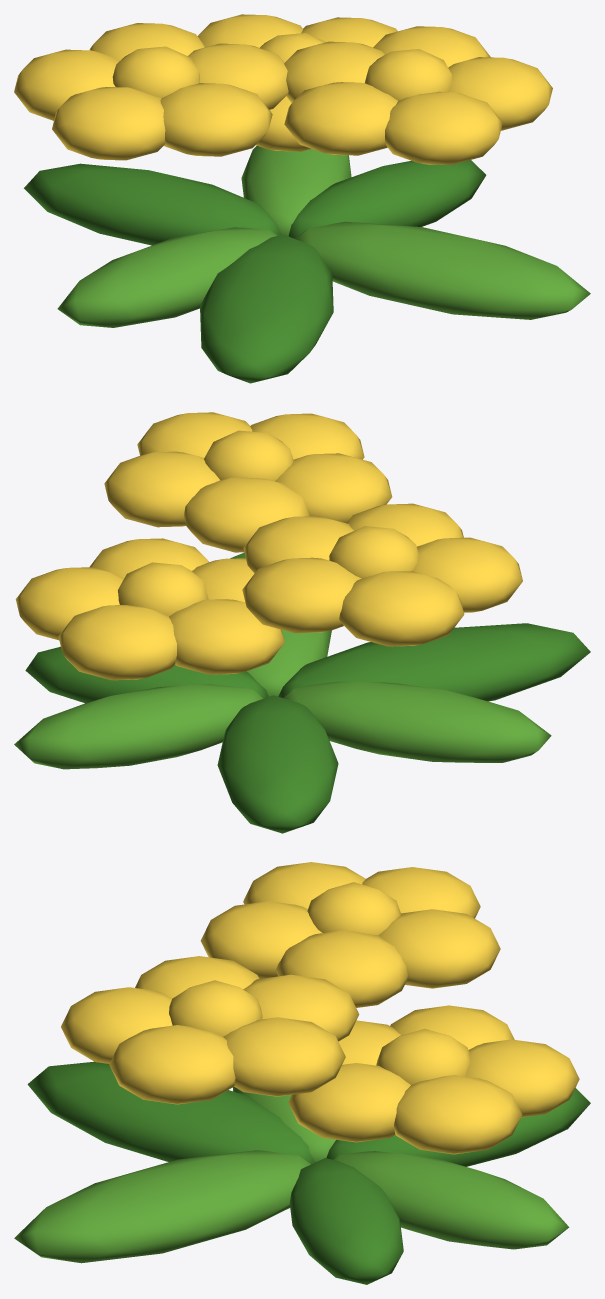
File: FlowersYellow.fbx
3 renders of one model, top to bottom at view 1: azimuth 30°, elevation 25°; view 2: azimuth 150°, elevation 25°; view 3: azimuth 270°, elevation 25°, orthographic. The views are drawn at different scales.
Visible parts, largest first — view 1: FlowersYellow; view 2: FlowersYellow; view 3: FlowersYellow.
Boxes of the visible parts, x1=… form: FlowersYellow: x1=14, y1=14, x2=590, y2=383; FlowersYellow: x1=14, y1=412, x2=590, y2=833; FlowersYellow: x1=14, y1=862, x2=590, y2=1284.
Size of the model in its own units: 0.5264 by 0.2533 by 0.5383.
Materials: 1 (1 with a texture image).
